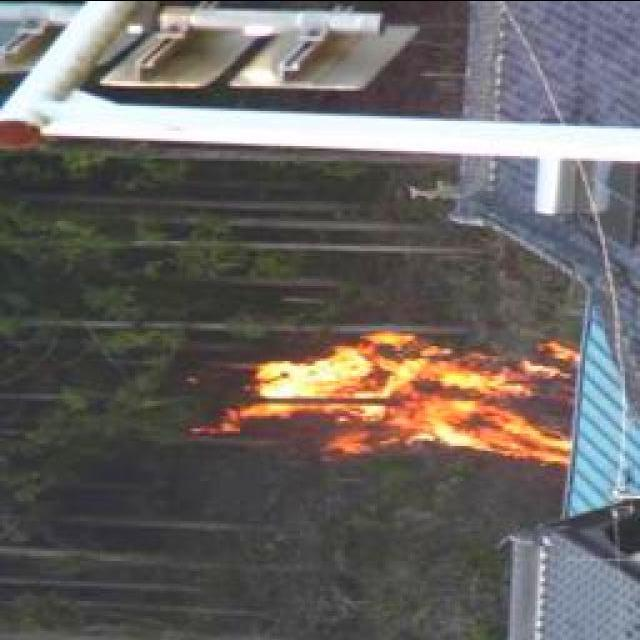Fire: (208, 322, 582, 472)
